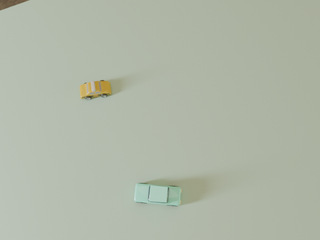toy_car: (134, 183, 181, 206), (80, 80, 111, 100)
